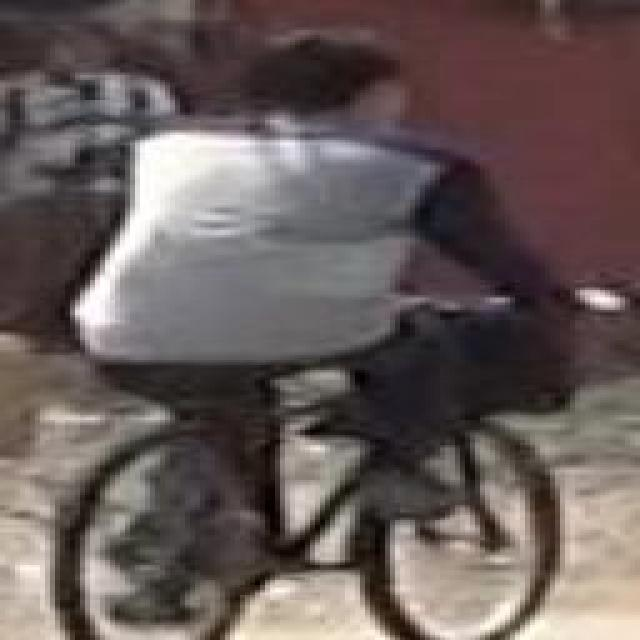adult: (27, 45, 568, 558)
